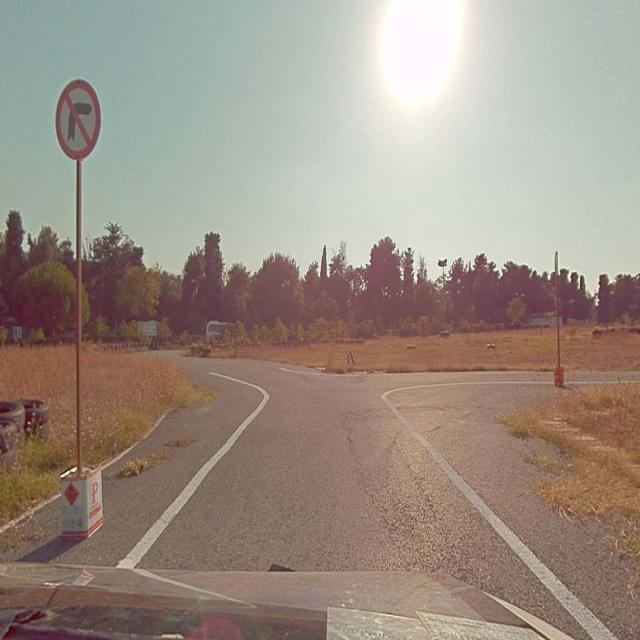sagadonulmez: (54, 80, 101, 158)
